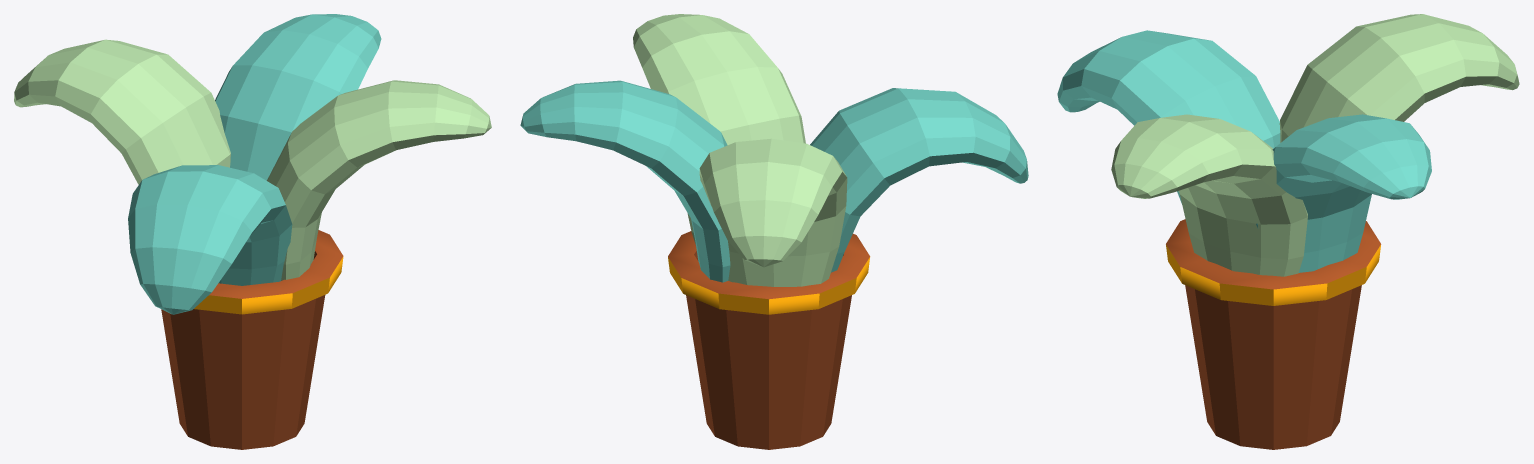
The model's file is potted_plant05.fbx.
The picture shows the model from 3 angles, left to right: view 1: azimuth 30°, elevation 25°; view 2: azimuth 150°, elevation 25°; view 3: azimuth 270°, elevation 25°; orthographic projection. The views are drawn at different scales.
Visible parts, largest first — view 1: potted_plant05; view 2: potted_plant05; view 3: potted_plant05.
Part boxes in pixels (left/top/right/bottom): potted_plant05: left=14, top=14, right=491, bottom=449; potted_plant05: left=520, top=14, right=1028, bottom=449; potted_plant05: left=1057, top=14, right=1519, bottom=449.
Size of the model in its own units: 1.46 by 1.28 by 1.5.
